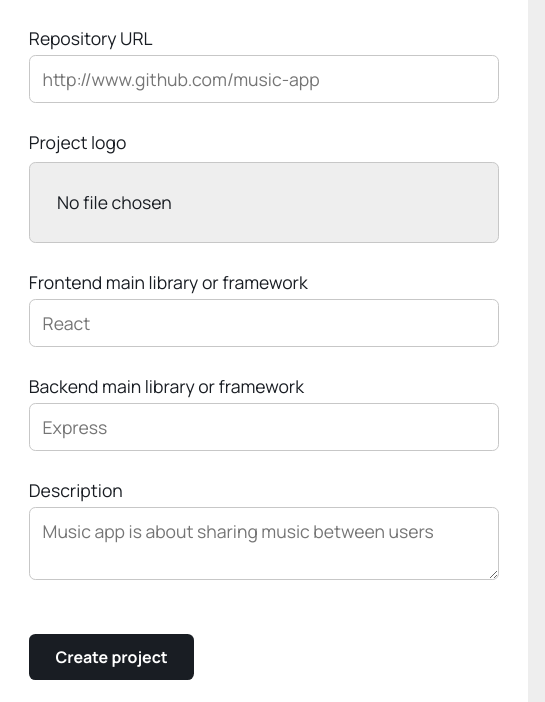
Test: Given a ProjectForm component › When instantiated as any sort of form › If the user submit invalid values, a list of errors should appear
(page scrolled)
What coordinates should you click on to do the following:
click the button "Create project"
I would click on:
 (112, 657)
Its box is left=29, top=634, right=194, bottom=680.
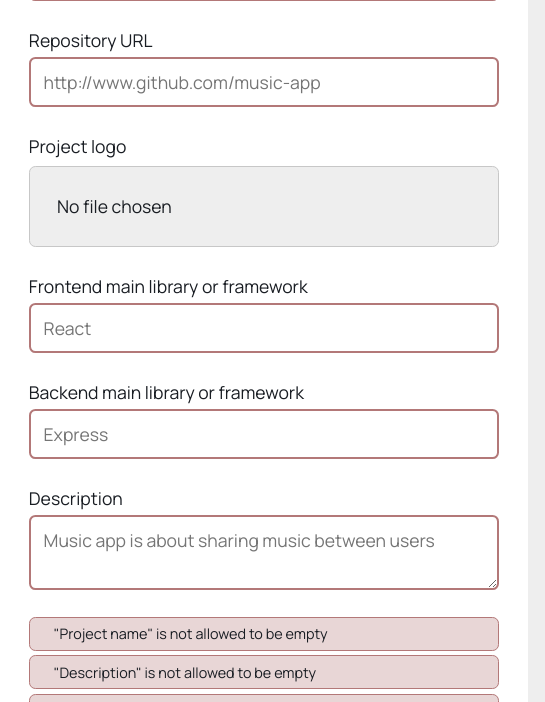
Result: the list item "\"Project name\" is not allowed to be empty" is shown at left=29, top=617, right=499, bottom=651
